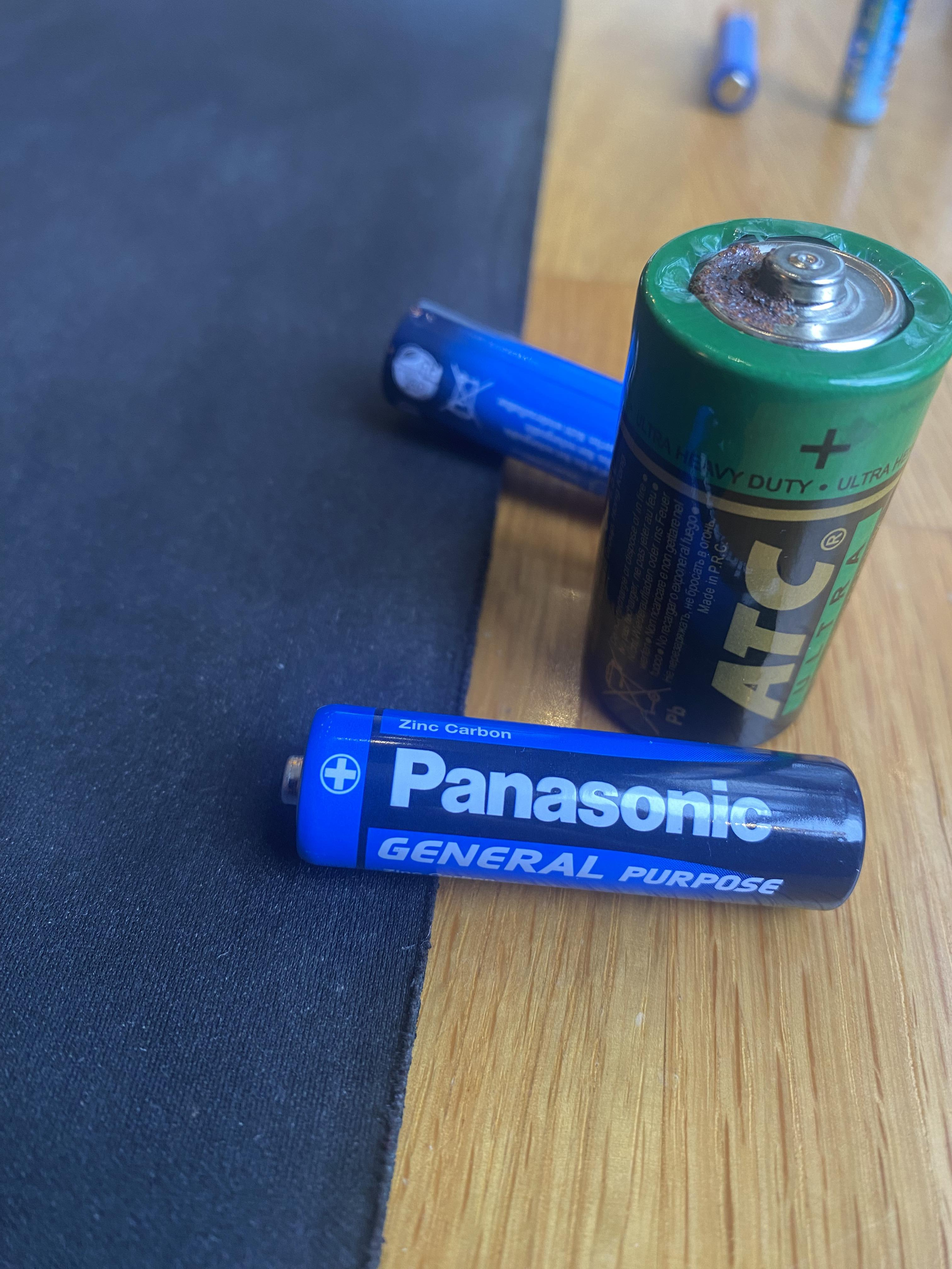AA: (280, 701, 866, 912)
